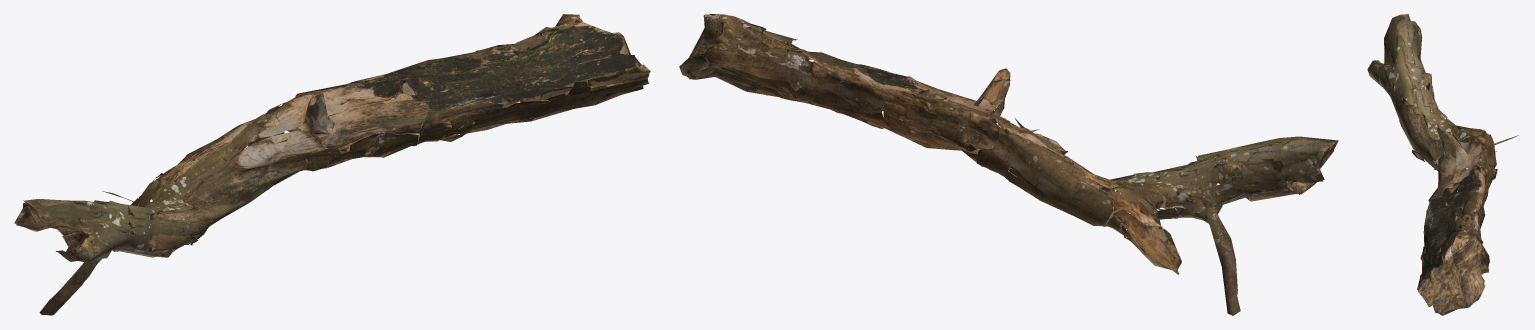
The model's file is dead_tree_trunk_02_mobil.glb.
3 renders of one model, left to right at view 1: azimuth 30°, elevation 25°; view 2: azimuth 150°, elevation 25°; view 3: azimuth 270°, elevation 25°, orthographic. The views are drawn at different scales.
Visible parts, largest first — view 1: dead_tree_trunk_02; view 2: dead_tree_trunk_02; view 3: dead_tree_trunk_02.
Part boxes in pixels (left/top/right/bottom): dead_tree_trunk_02: left=14, top=14, right=650, bottom=315; dead_tree_trunk_02: left=679, top=14, right=1338, bottom=315; dead_tree_trunk_02: left=1367, top=14, right=1518, bottom=315.
Size of the model in its own units: 4.04 by 1.05 by 1.03.
1 material, 1 textured.
